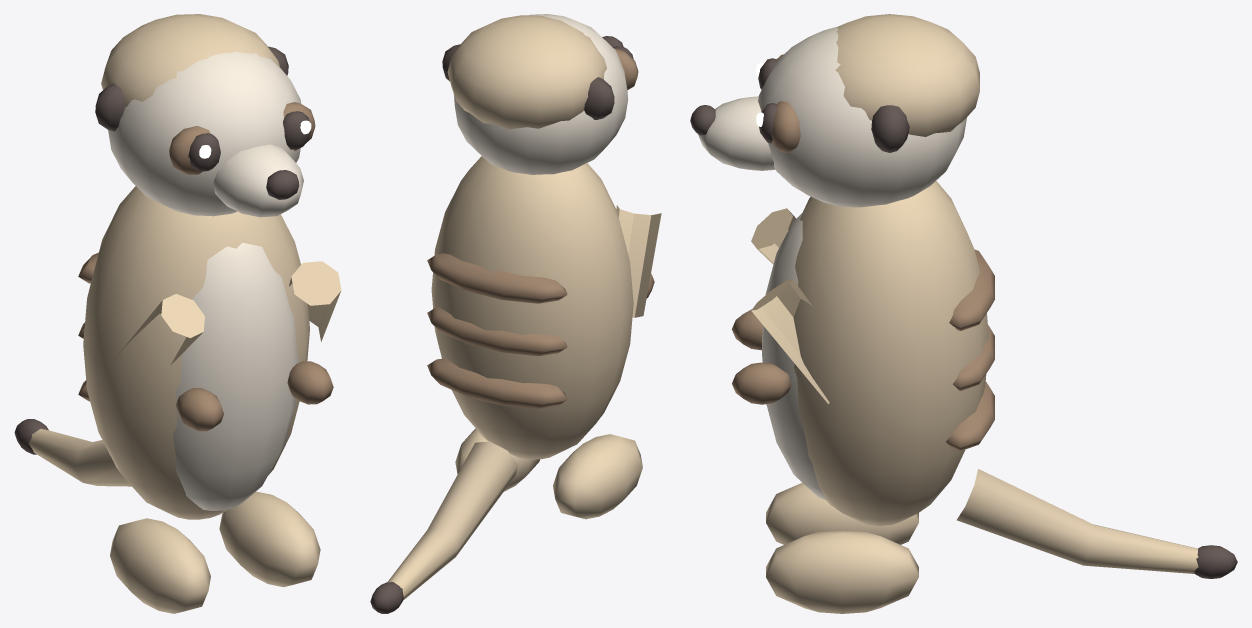
File: anime_meerkat.glb
3 renders of one model, left to right at view 1: azimuth 30°, elevation 25°; view 2: azimuth 150°, elevation 25°; view 3: azimuth 270°, elevation 25°, orthographic. The views are drawn at different scales.
Visible parts, largest first — view 1: anime_meerkat; view 2: anime_meerkat; view 3: anime_meerkat.
Part boxes in pixels (x1,y1,x2,y2): anime_meerkat: (14,14,341,613); anime_meerkat: (370,14,661,613); anime_meerkat: (690,14,1237,613).
Bounding box in the file's own units: 0.2612 × 0.65 × 0.579.
